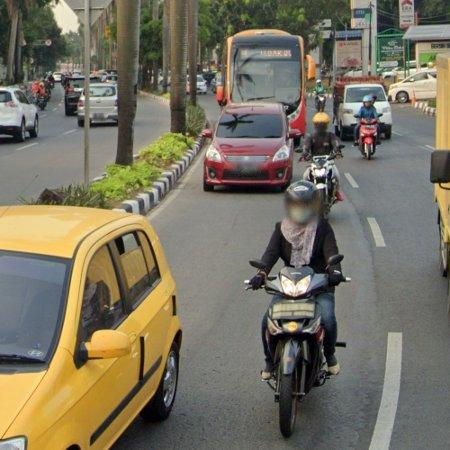taxis: (0, 206, 183, 450)
